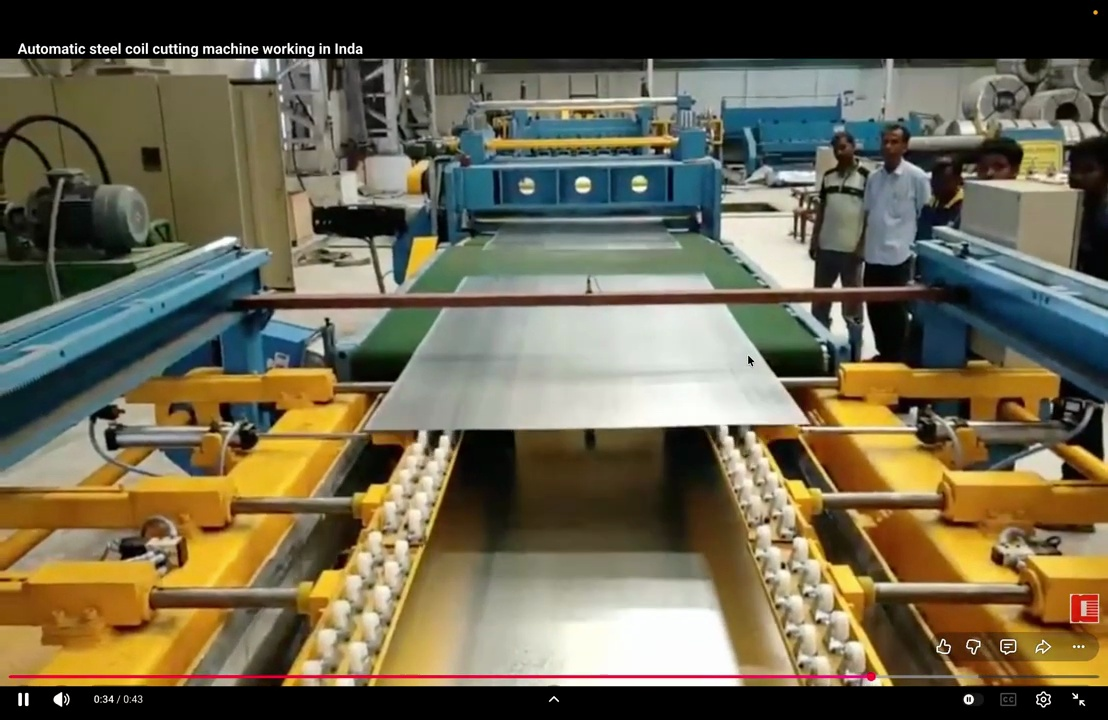steel plate: (368, 305, 804, 430), (486, 221, 679, 250)
